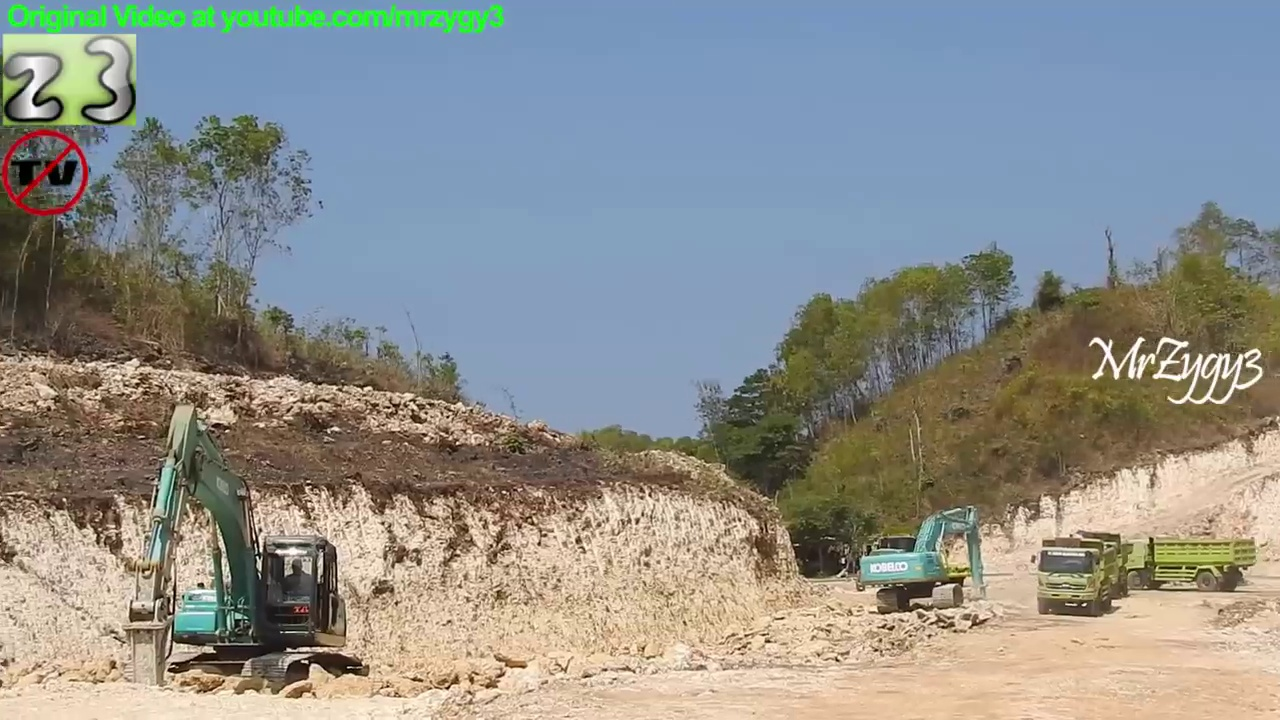excavator: (853, 502, 991, 617)
excavator breaker: (124, 399, 374, 706)
truck: (1091, 530, 1260, 598), (1027, 537, 1117, 619), (1050, 527, 1133, 606)
